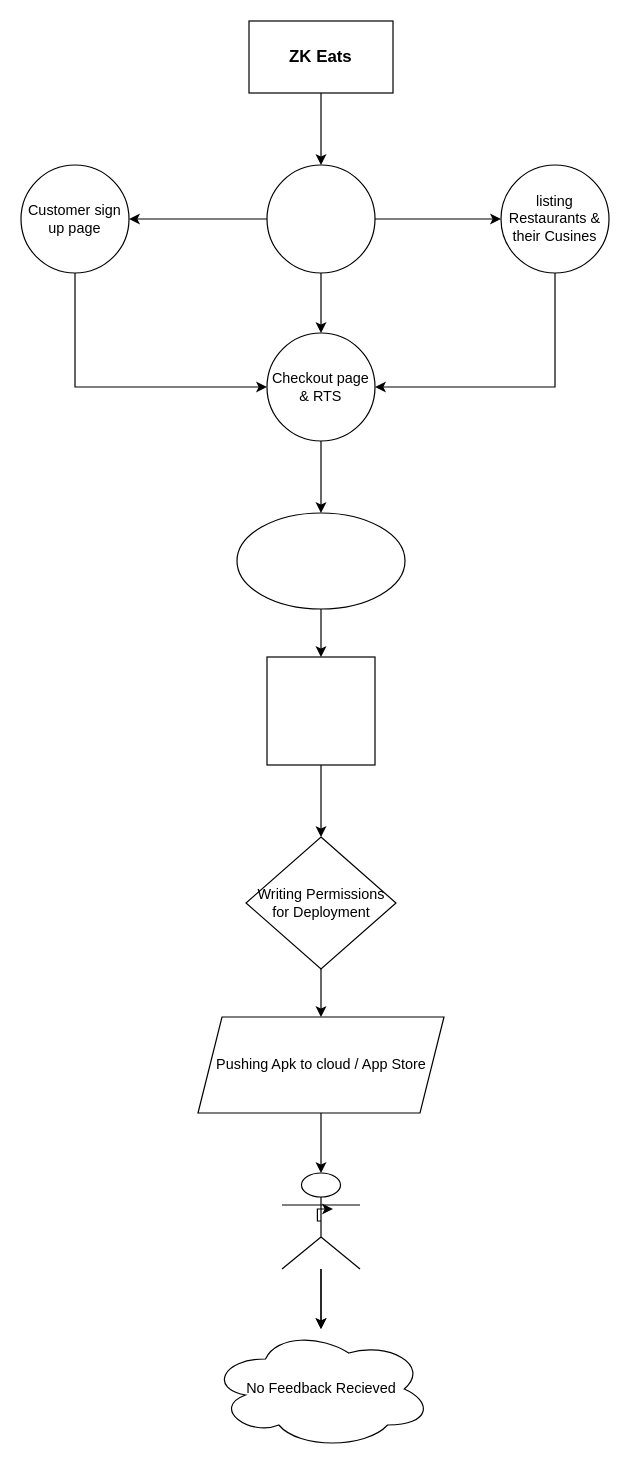
The diagram is 630 pixels wide and 1470 high, and some of its shapes have lost their labels. The shapes that lost their labels are listed below. From the top down, each one's centre as x and y in pixels, then its label:
point 320,218: Design UI/UX
point 320,560: Compiling into apk
point 320,710: No Bugs Found
point 320,1220: customer using application
